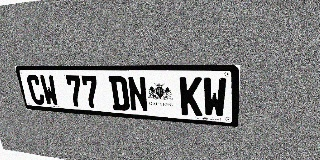7: (80, 75, 101, 109), (64, 75, 85, 108)
C: (25, 75, 46, 105)
D: (108, 76, 130, 111)
K: (179, 77, 202, 116)
N: (127, 76, 149, 113)
W: (203, 77, 227, 118), (39, 75, 60, 106)
